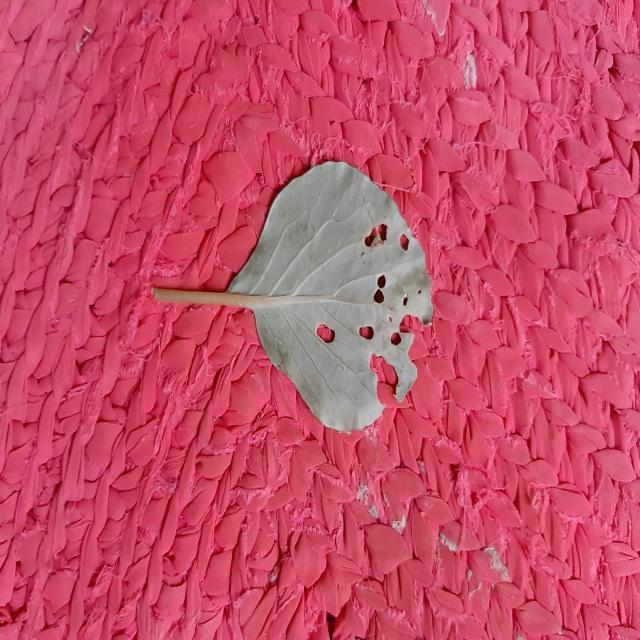Kohlrabi: (152, 162, 432, 431)
